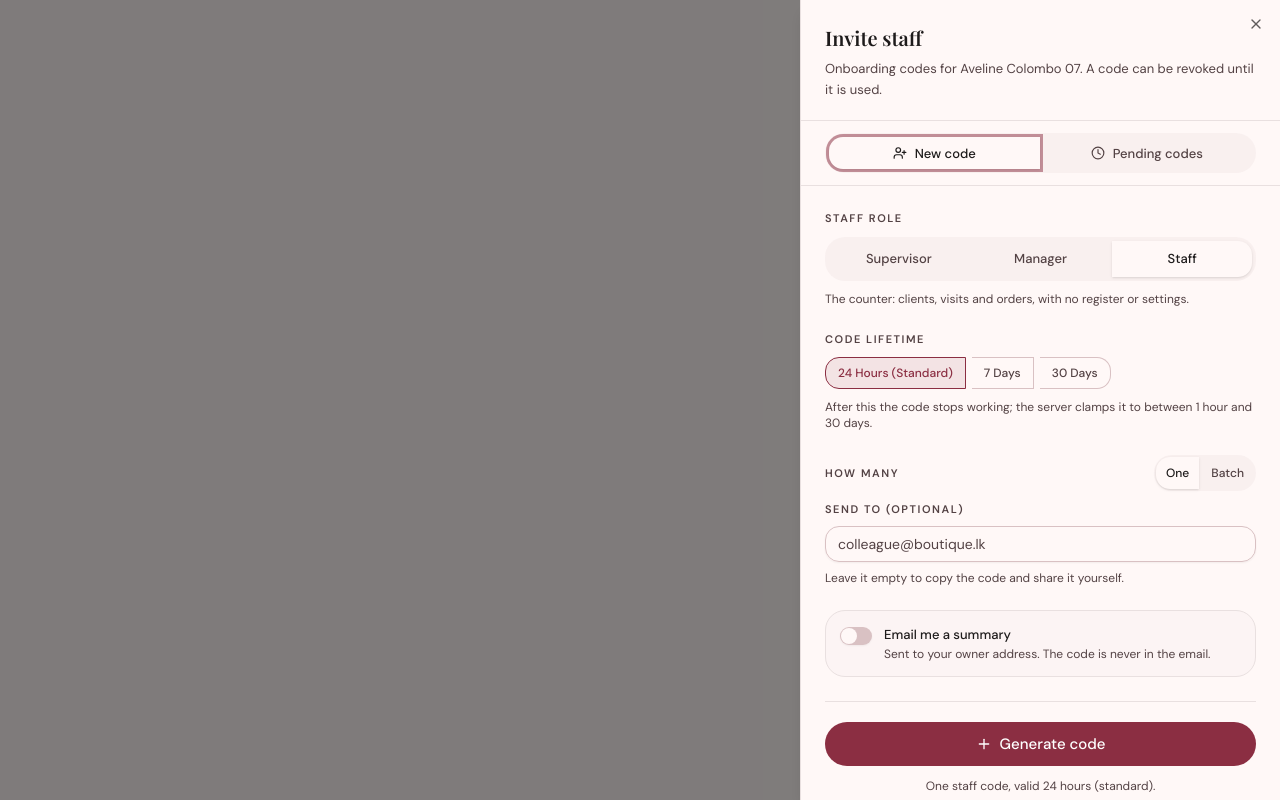
Test: InvitationDrawer › generates a single code and shows it once
The image size is (1280, 800).
Click the button "Generate code". click: coordinates (1040, 744)
box: left=825, top=722, right=1256, bottom=766
(page scrolled)
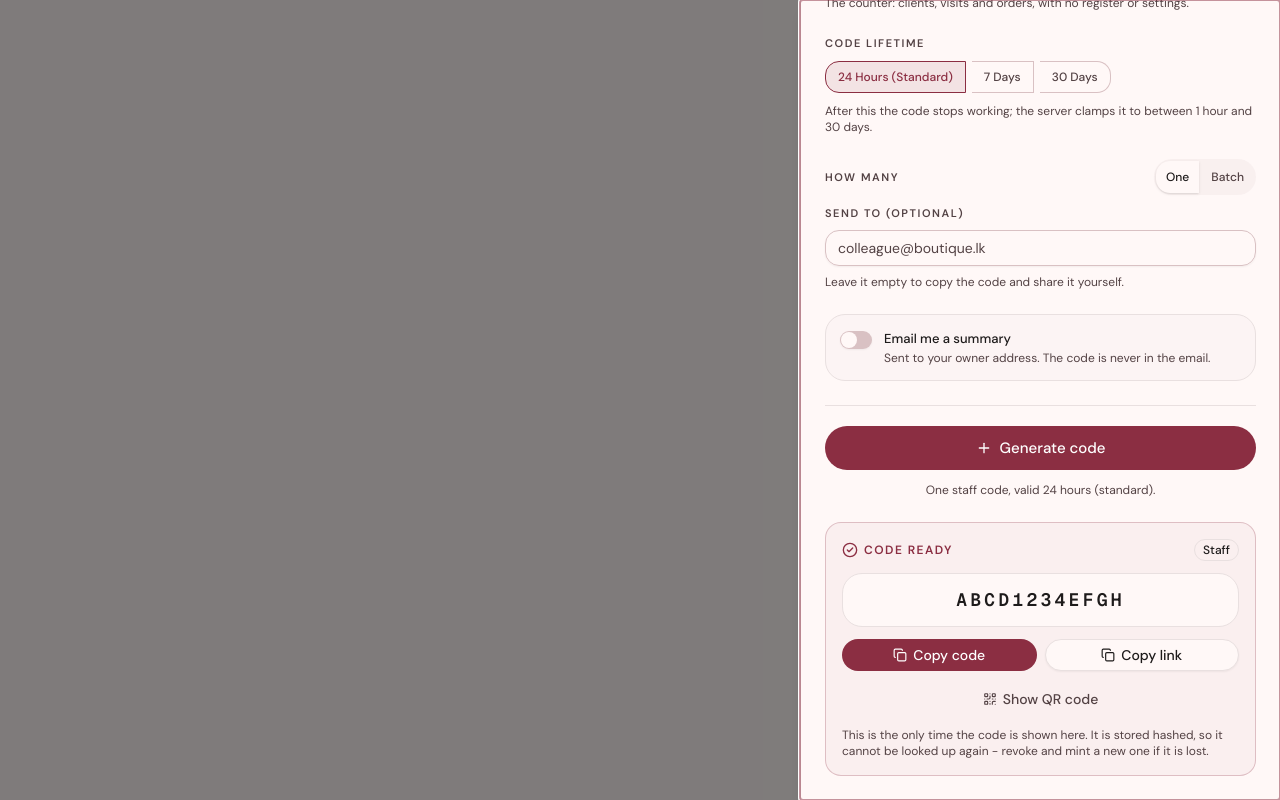
Result: the text "ABCD1234EFGH" is shown at left=842, top=573, right=1239, bottom=627
